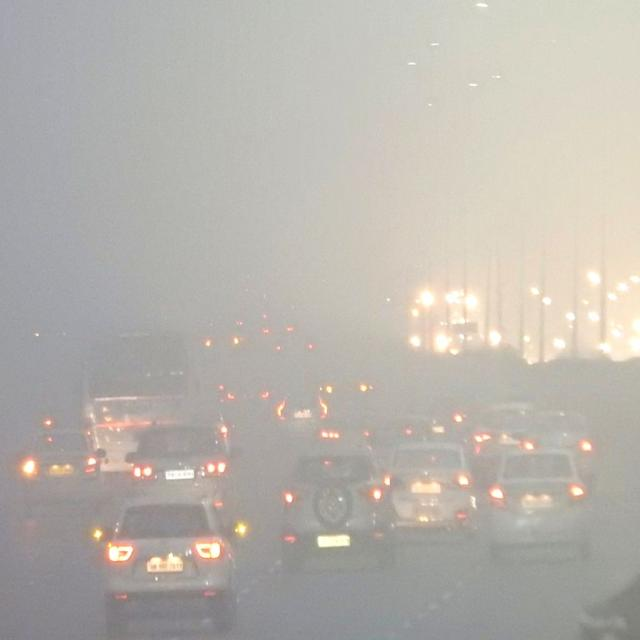moderate_traffic: (37, 279, 608, 615)
